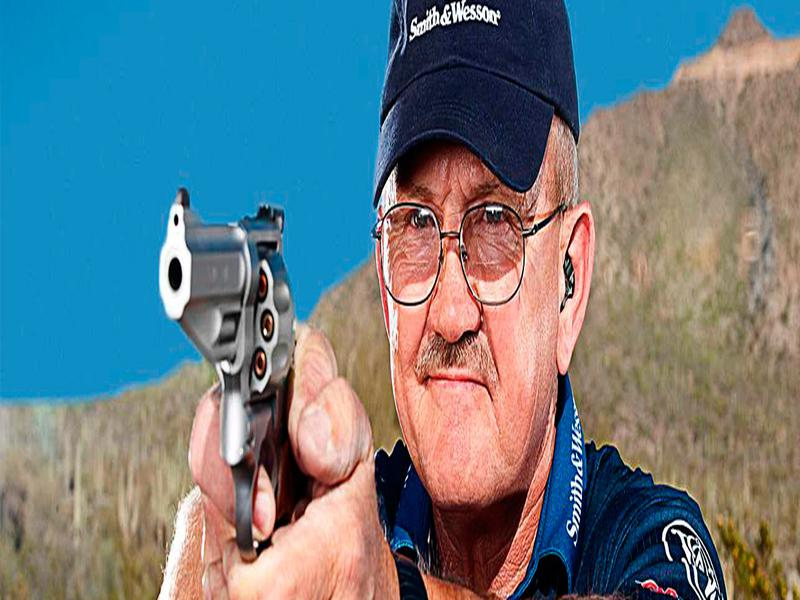Revolver: (131, 176, 324, 562)
